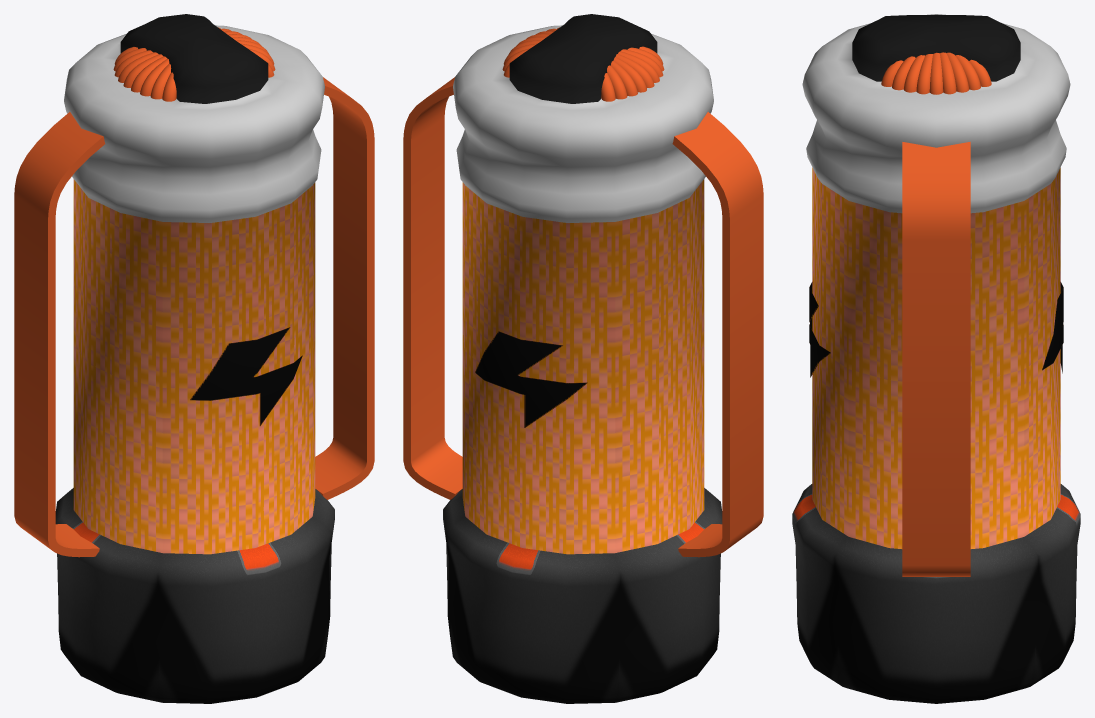
The model's file is Powercell.fbx.
3 renders of one model, left to right at view 1: azimuth 30°, elevation 25°; view 2: azimuth 150°, elevation 25°; view 3: azimuth 270°, elevation 25°, orthographic.
Parts seen in each view (by area): view 1: PowerCell001, Line004, Line005, Outer Screen001; view 2: PowerCell001, Line004, Line005, Outer Screen001; view 3: PowerCell001, Line005, Outer Screen001, Shape047, Shape048, Shape046, Shape049.
Boxes of the visible parts, x1,y1,x2,y2 form: PowerCell001: [55, 14, 334, 703]; Line004: [14, 112, 105, 557]; Line005: [315, 77, 374, 499]; Outer Screen001: [190, 327, 302, 426]; PowerCell001: [443, 14, 722, 703]; Line004: [672, 112, 763, 557]; Line005: [403, 77, 462, 499]; Outer Screen001: [475, 331, 587, 427]; PowerCell001: [792, 14, 1080, 703]; Line005: [902, 141, 970, 576]; Outer Screen001: [809, 282, 1063, 377]; Shape047: [929, 52, 943, 94]; Shape048: [940, 52, 956, 94]; Shape046: [916, 54, 932, 94]; Shape049: [946, 52, 969, 92].
Bounding box in the file's own units: 5.15 × 9.32 × 3.88.
